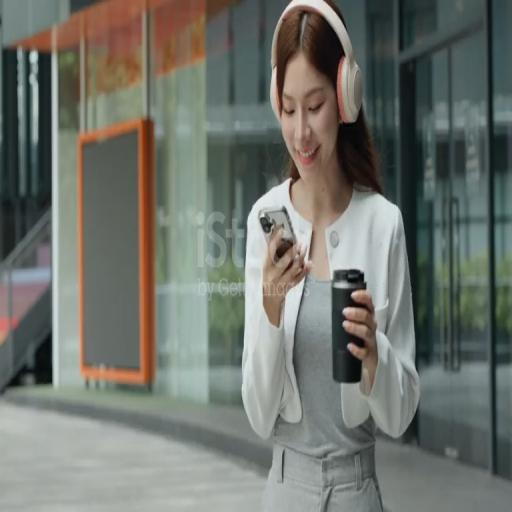earphone: (264, 0, 367, 128)
